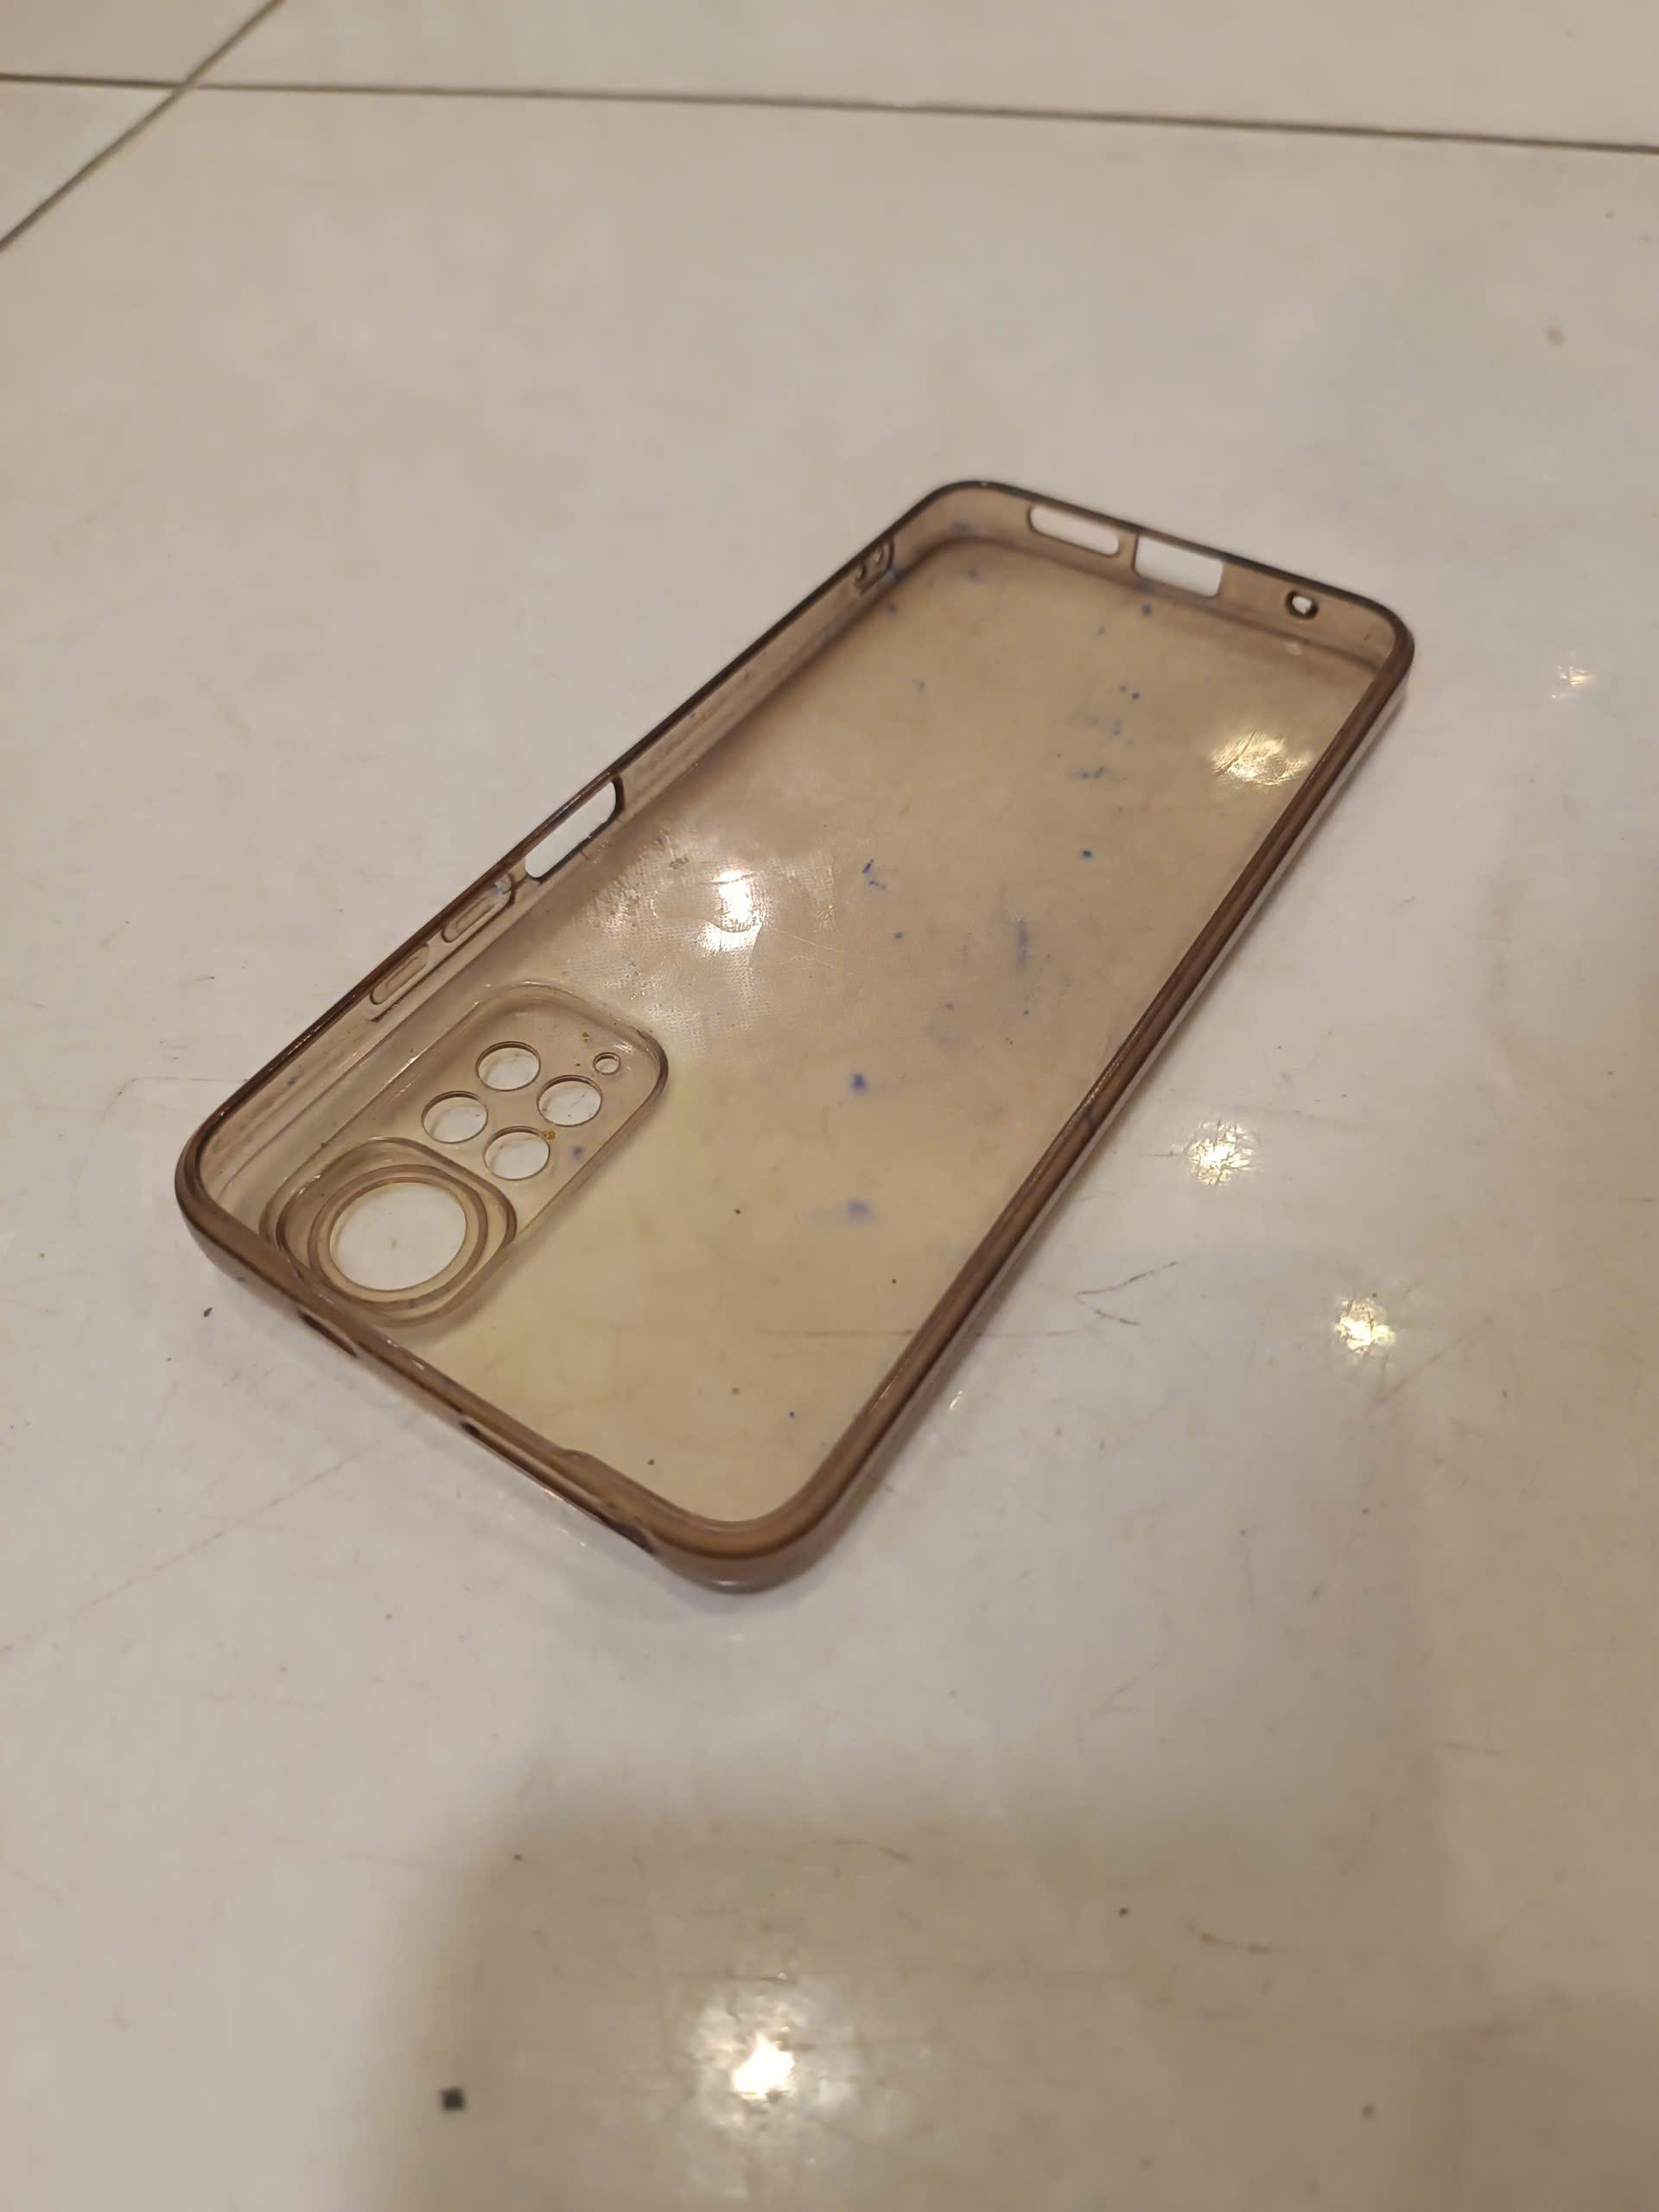Vo co: (181, 472, 1413, 1592)
